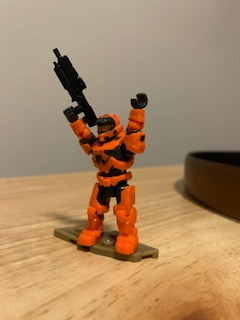rifle: (51, 46, 99, 129)
spartan: (62, 92, 150, 257)
up: (60, 92, 150, 175)
